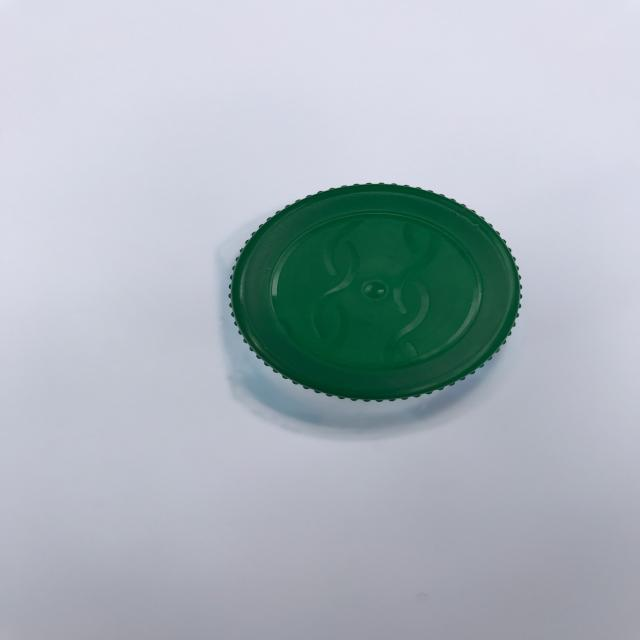plastic: (227, 181, 523, 402)
